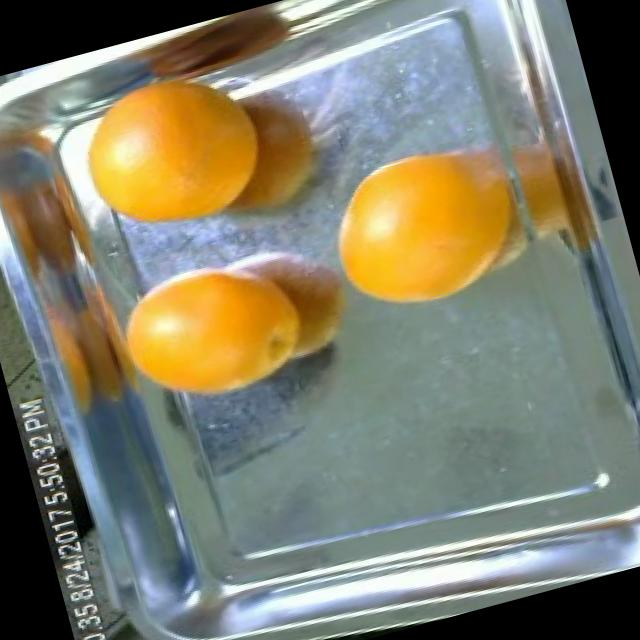Fruit: (49, 56, 304, 268), (89, 225, 332, 441), (304, 120, 538, 335)
